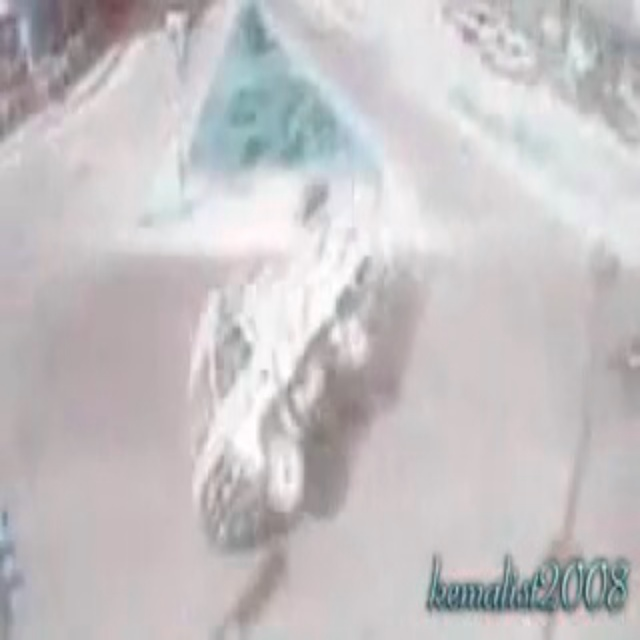acc: (166, 186, 393, 557)
